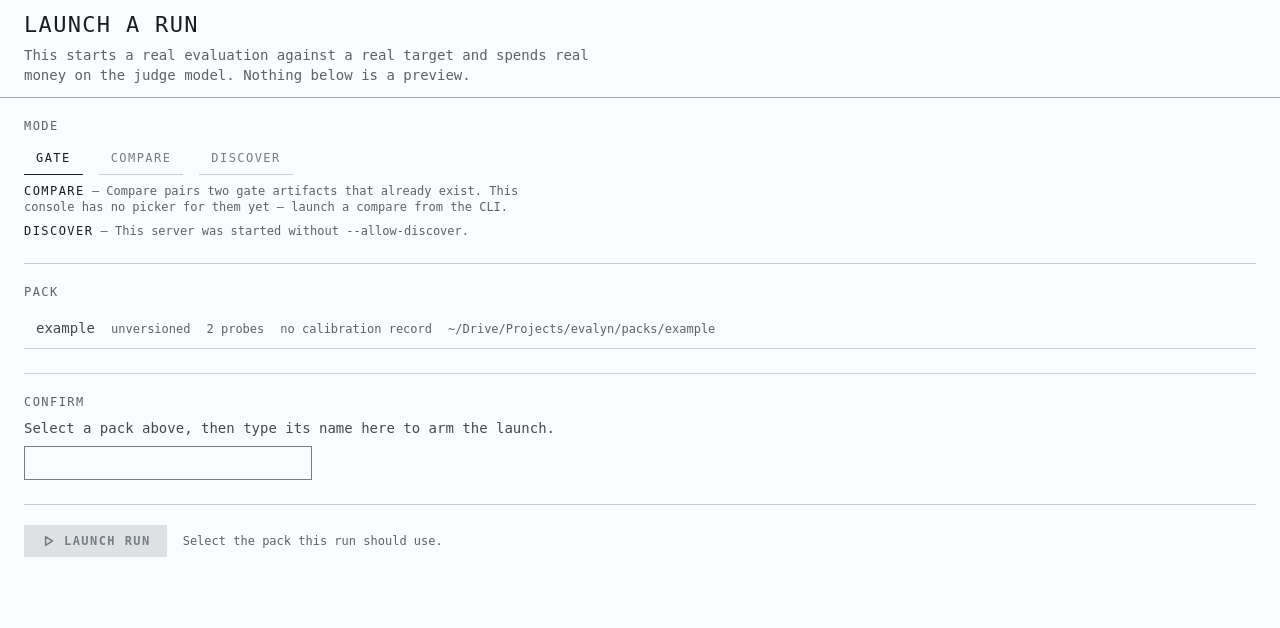
Test: the launch console › renders a refused launch with a glyph, not colour alone
Click the button with test id "pack-key" at (640, 328), box 24,308 -> 1256,349
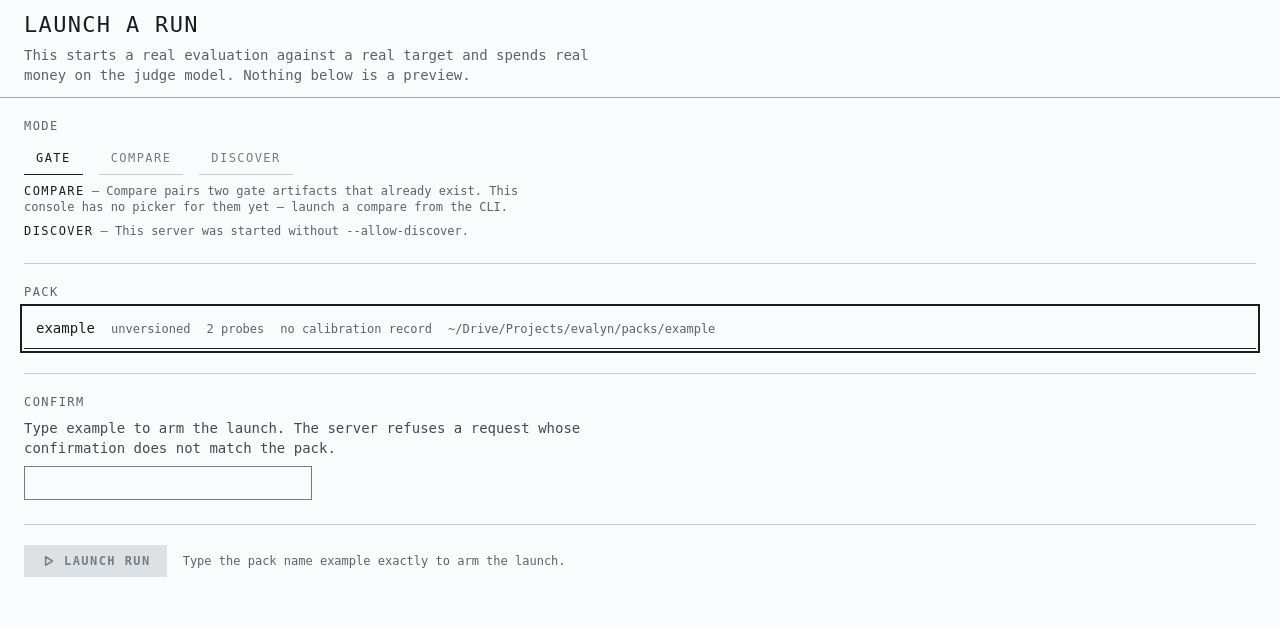
Type "example" into the field labelled "Type example" at (168, 483), box 24,466 -> 312,500
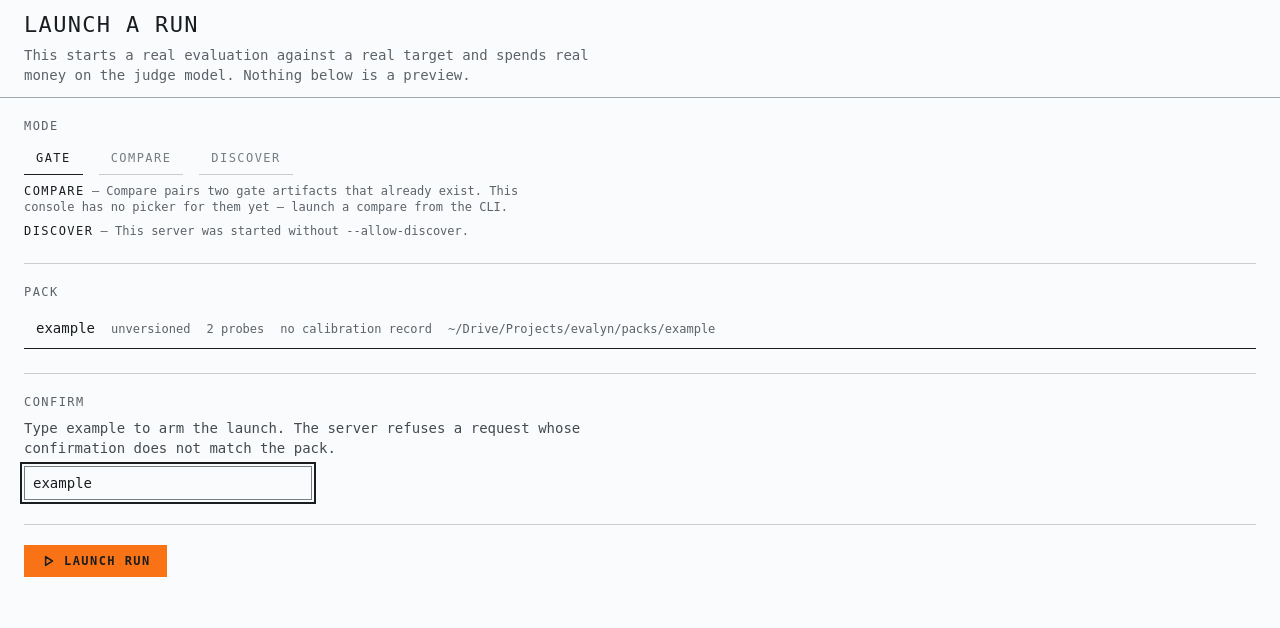
Click the button with test id "safety-key" at (95, 561), box 24,545 -> 167,577
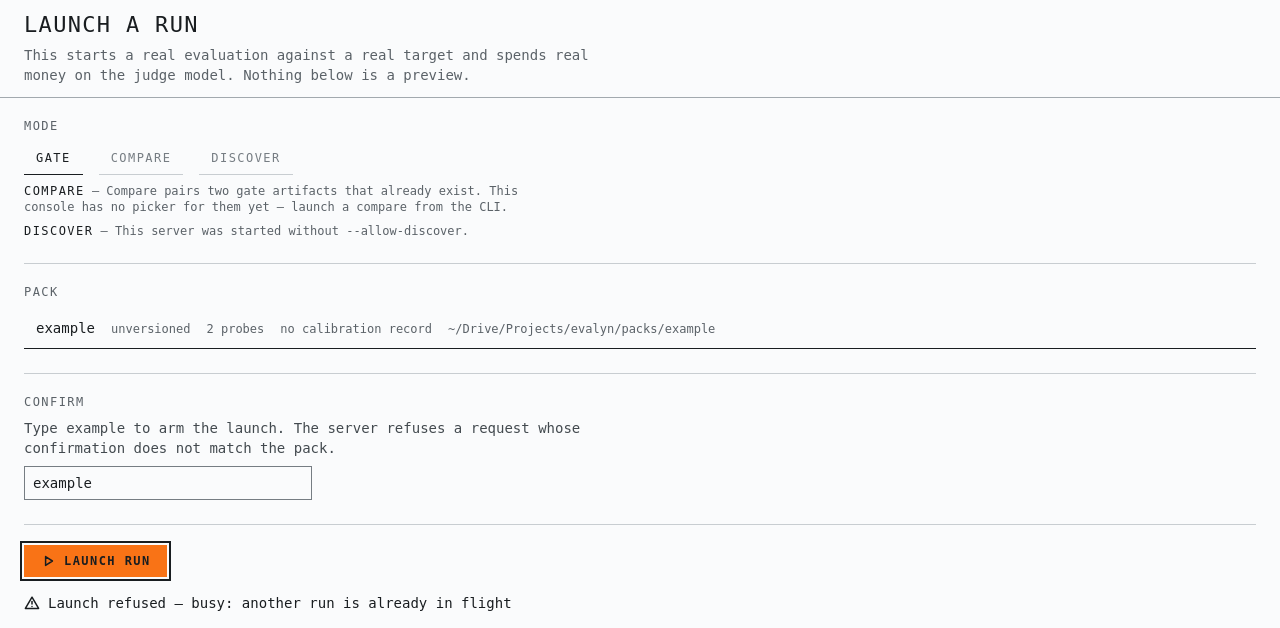
Expected: the element with test id "launch-error" shows "another run is already in flight", 48,595 -> 512,611
Expected: the 2nd icon is shown, 24,595 -> 40,611
